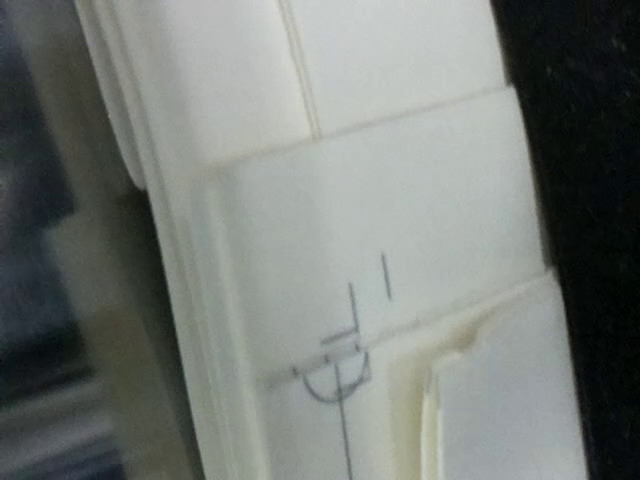misaligned: (261, 282, 372, 407)
